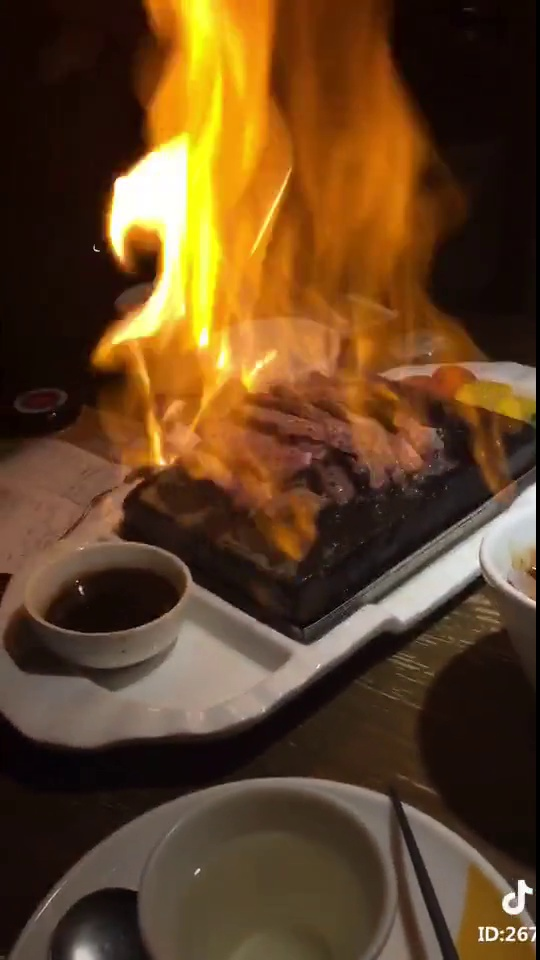fire: (95, 13, 454, 393)
